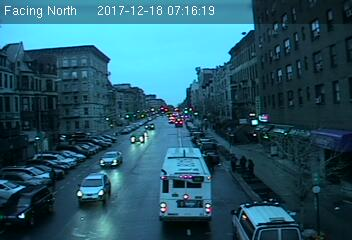bus: (158, 148, 212, 225)
car: (2, 182, 55, 226), (76, 172, 112, 204), (99, 151, 123, 168), (129, 132, 145, 143)
pedestrian: (247, 157, 255, 180), (239, 155, 248, 175)
police: (231, 198, 304, 239)
